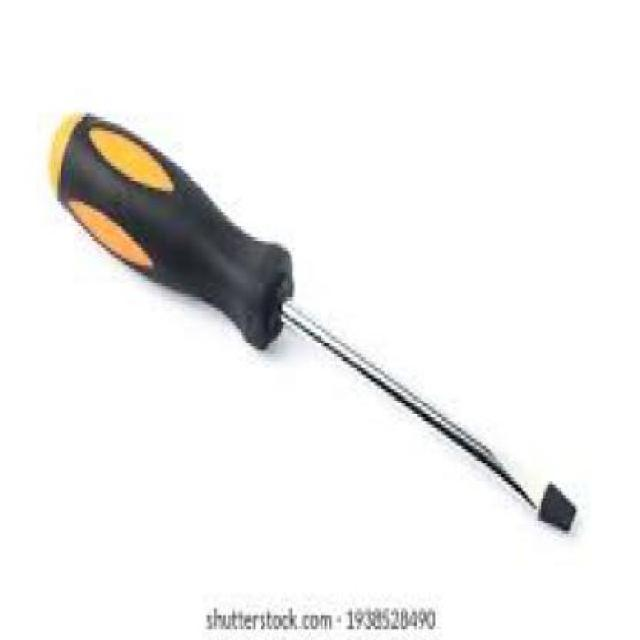screwdriver: (46, 105, 579, 538)
